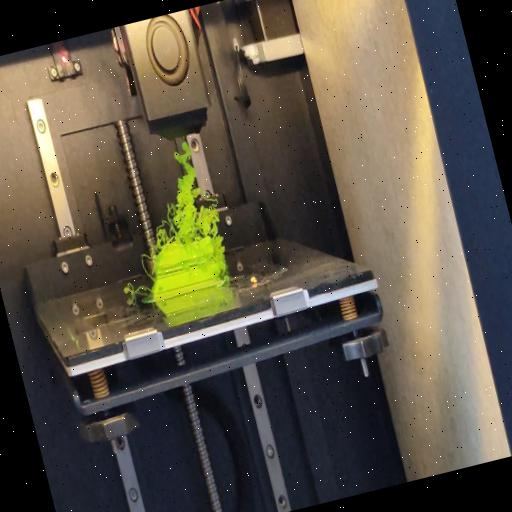spaghetti: (126, 135, 226, 256), (212, 238, 234, 282), (121, 280, 150, 307), (139, 251, 159, 288)
